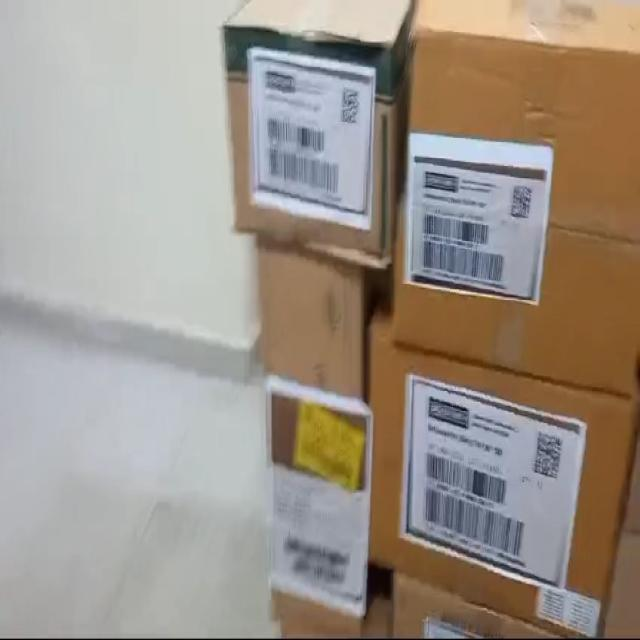BoxFace: (400, 30, 640, 389), (366, 335, 621, 630), (251, 230, 368, 640), (219, 18, 398, 265)
